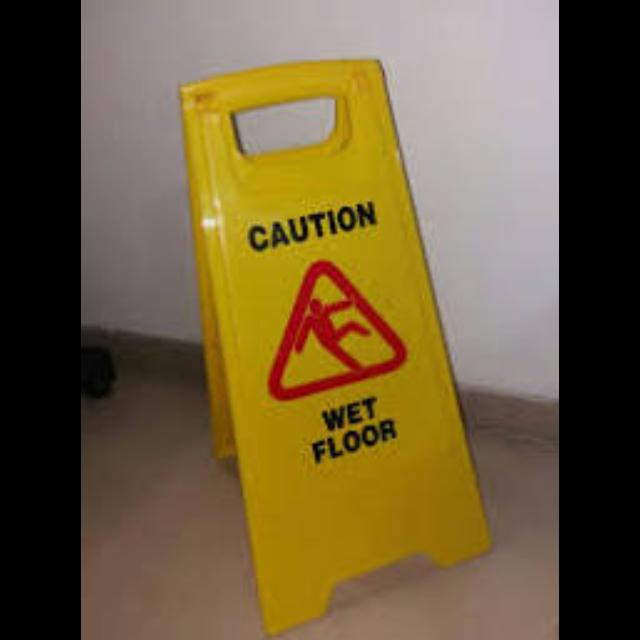slippery_floor: (183, 62, 487, 633)
